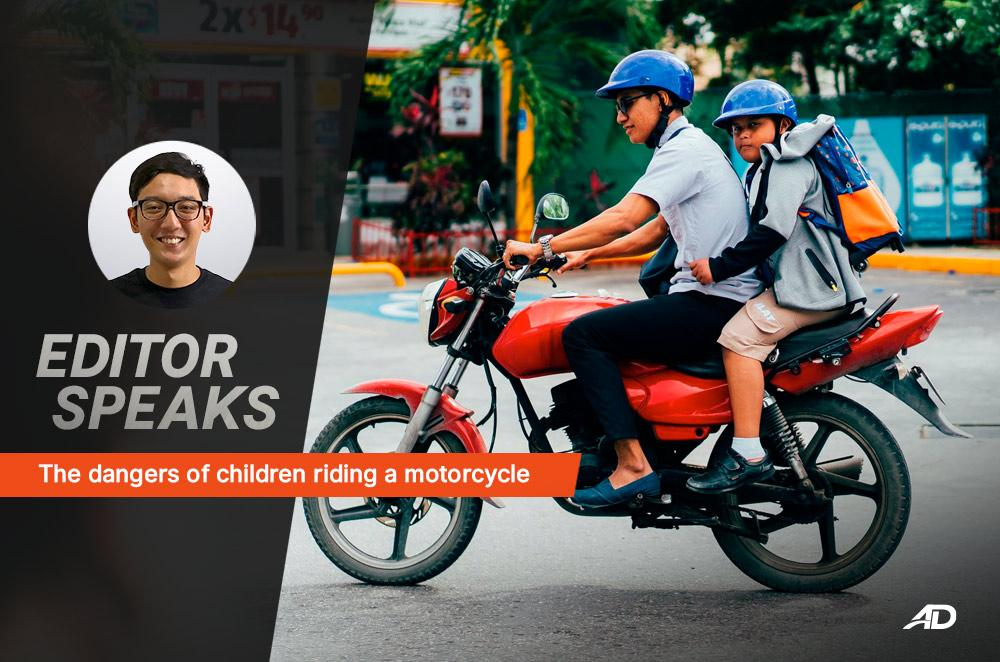helmet: (601, 49, 705, 150), (715, 73, 795, 161)
